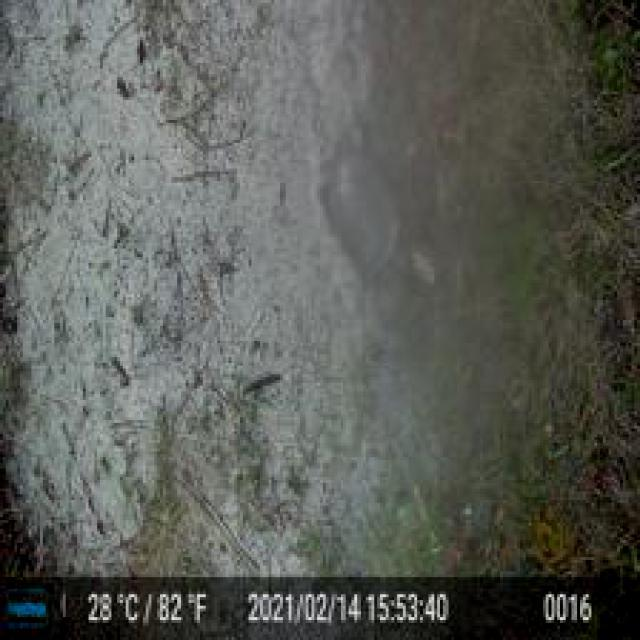tortoise: (317, 143, 409, 286)
